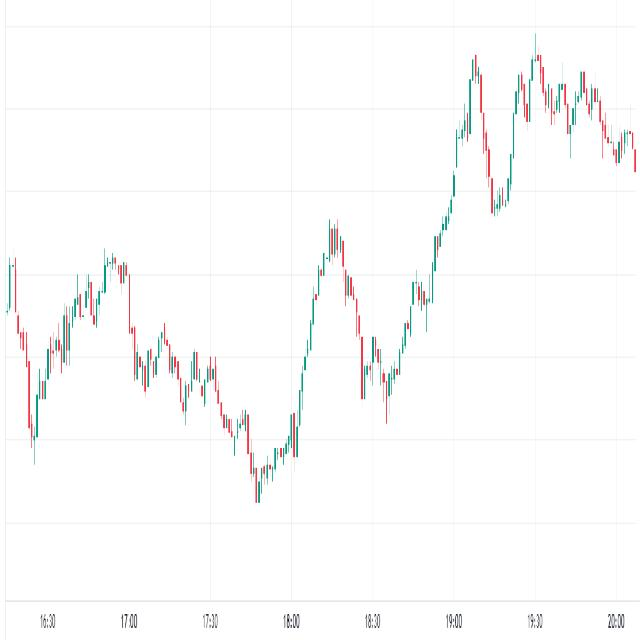Ascending-Triangle: (372, 39, 635, 442)
